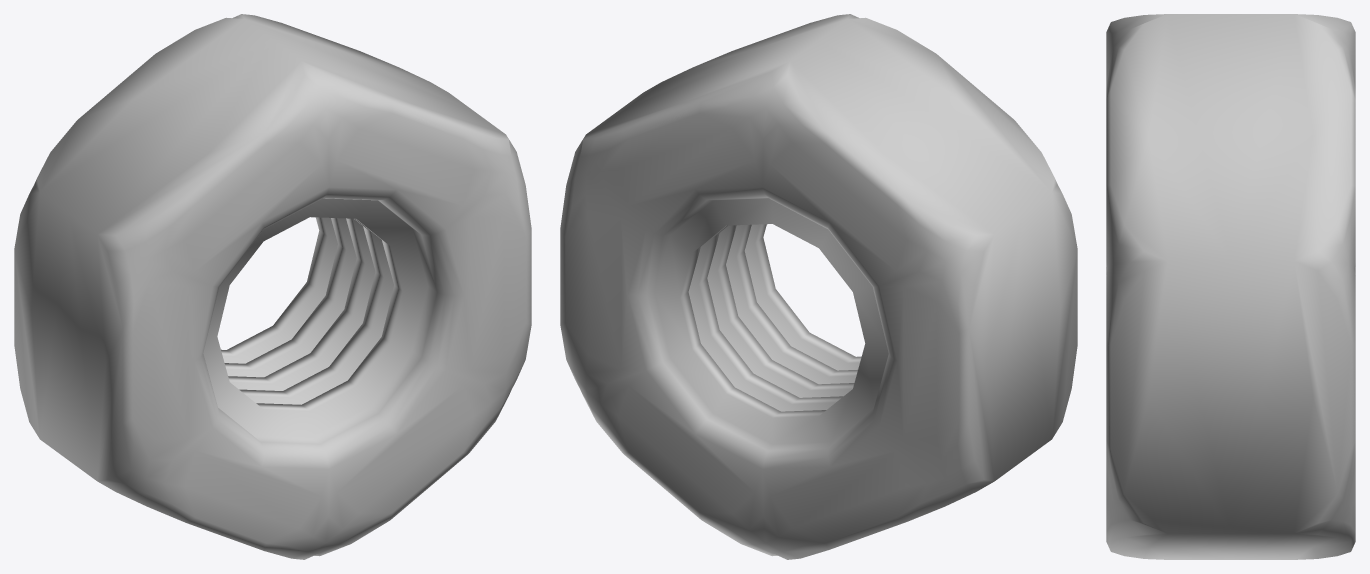
File: collectible1.fbx
The picture shows the model from 3 angles, left to right: view 1: azimuth 30°, elevation 25°; view 2: azimuth 150°, elevation 25°; view 3: azimuth 270°, elevation 25°; orthographic projection. The views are drawn at different scales.
Parts seen in each view (by area): view 1: Circle; view 2: Circle; view 3: Circle.
Part boxes in pixels (x1,y1,x2,y2): Circle: [14, 14, 531, 559]; Circle: [560, 14, 1077, 559]; Circle: [1106, 14, 1355, 559].
Size of the model in its own units: 1.73 by 1.99 by 0.826.
